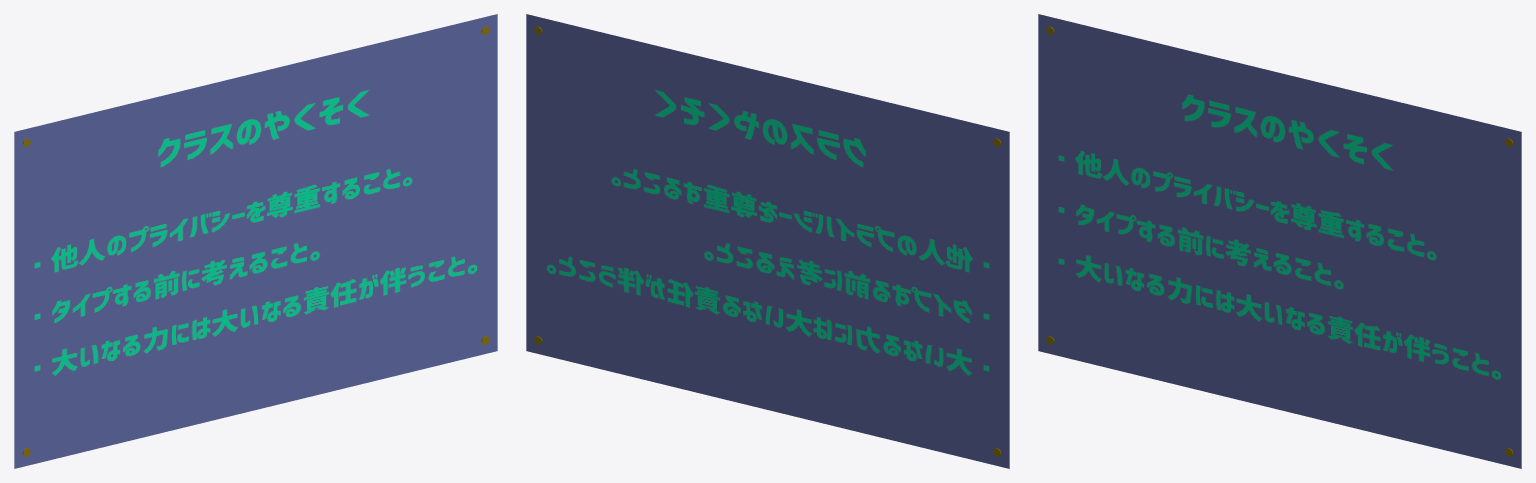
File: map_objects_keiji.fbx
The picture shows the model from 3 angles, left to right: view 1: azimuth 30°, elevation 25°; view 2: azimuth 150°, elevation 25°; view 3: azimuth 330°, elevation 25°; orthographic projection.
Parts seen in each view (by area): view 1: 平面; view 2: 平面; view 3: 平面.
Part boxes in pixels (<box>): 平面: <box>14,14,497,468</box>; 平面: <box>526,14,1009,468</box>; 平面: <box>1038,14,1521,468</box>.
Bounding box in the file's own units: 600 × 400 × 1.69.
2 materials, 1 textured.
